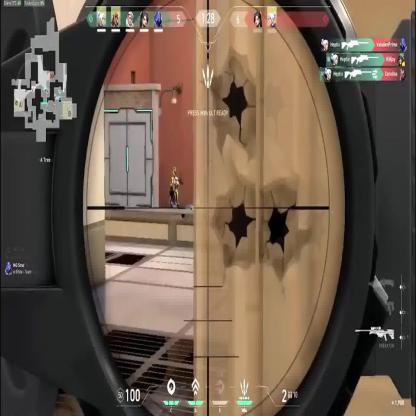enemy: (169, 168, 179, 213)
enemy_head: (173, 169, 176, 177)
